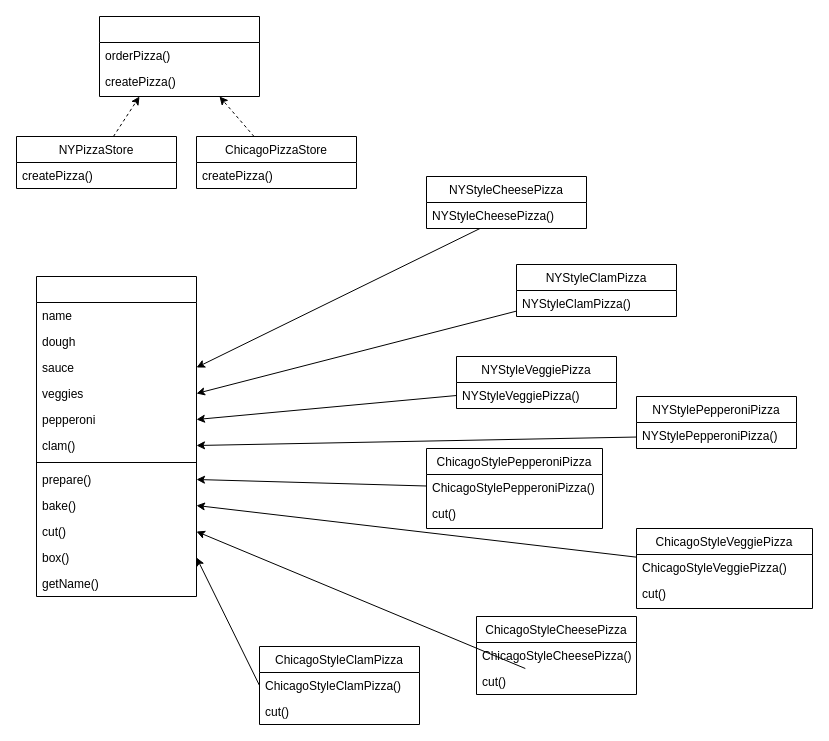
This 829x741 diagram has some shape labels left out. Here are the shapes that lost their labels. From the top down, the box of each, then its label:
(98, 16, 260, 96): PizzaStore
(36, 276, 196, 596): Pizza
